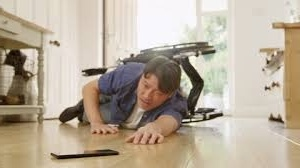fall: (57, 55, 189, 148)
